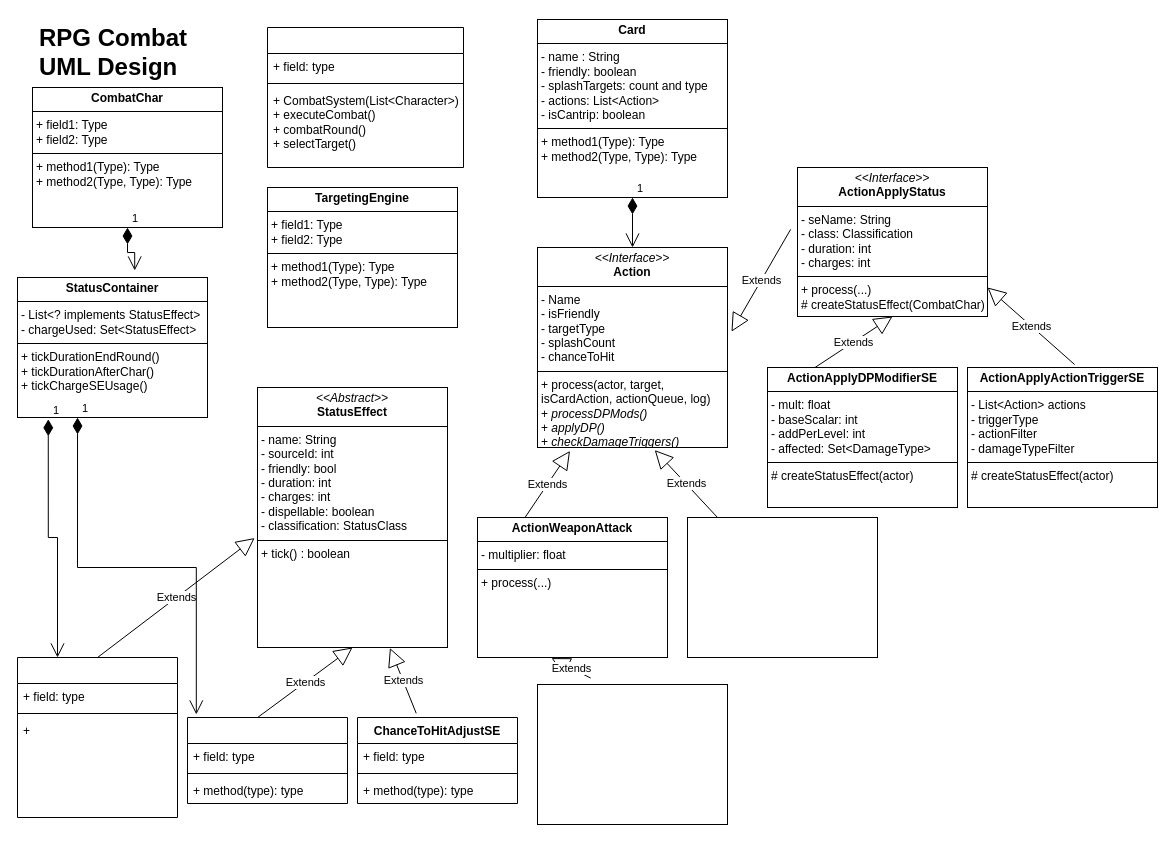
Image size: 1175x842. Some labels were removed from this diagram. The shapes that lost their labels are listed below. From the top down, each one's box as (x1, y1, x2, y2) in pixels, then its label:
(266, 26, 464, 168): CombatEngine
(686, 516, 878, 658): ActionSummon - summonId: int - count: int + process(...)
(16, 656, 178, 818): DamageModifierSE
(536, 684, 728, 824): ActionWeaponAttackFinisher - scale: List<Float> + process(...)
(186, 716, 348, 804): StatAdjustmentSE
